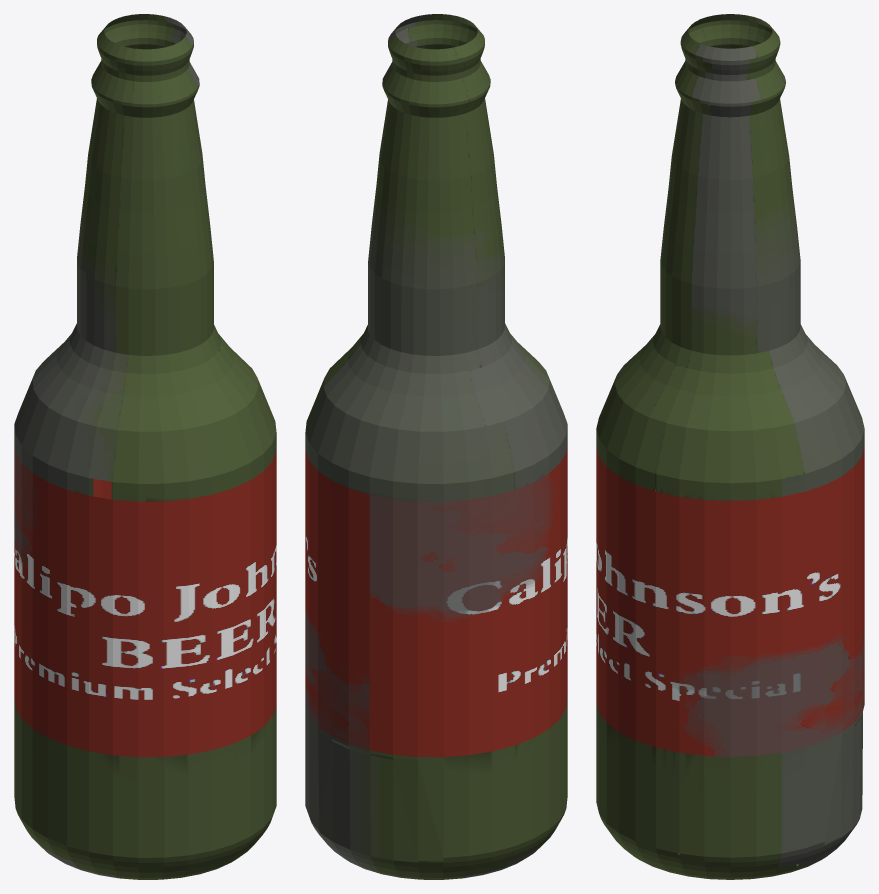
Rendered from bottle (with textures).fbx.
3 renders of one model, left to right at view 1: azimuth 30°, elevation 25°; view 2: azimuth 150°, elevation 25°; view 3: azimuth 270°, elevation 25°, orthographic.
Visible parts, largest first — view 1: Cylinder; view 2: Cylinder; view 3: Cylinder.
Boxes of the visible parts, <box> form: Cylinder: <box>14,14,276,879</box>; Cylinder: <box>305,14,567,879</box>; Cylinder: <box>596,14,864,879</box>.
Bounding box in the file's own units: 115 × 393 × 118.
